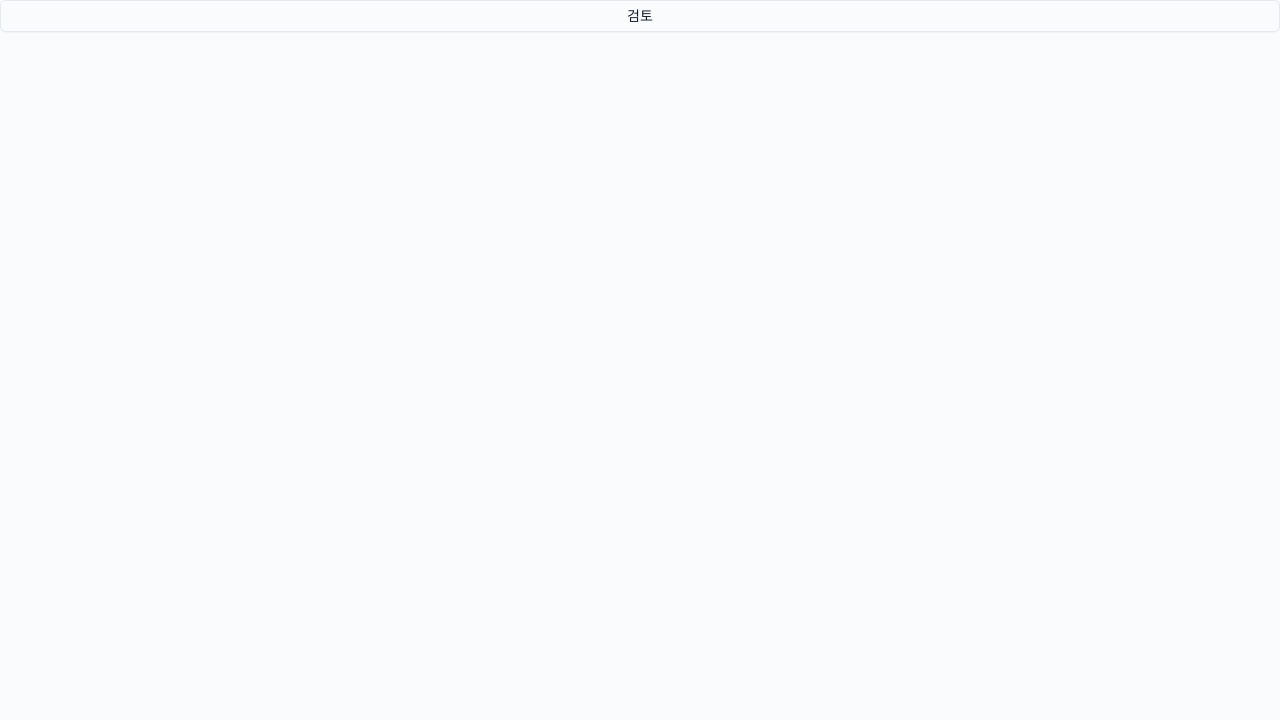
Test: 검토 단추 › 발주기관은 눌러 승인·반려 창을 연다
Click the button "검토" at (640, 16), box [0,0,1279,32]
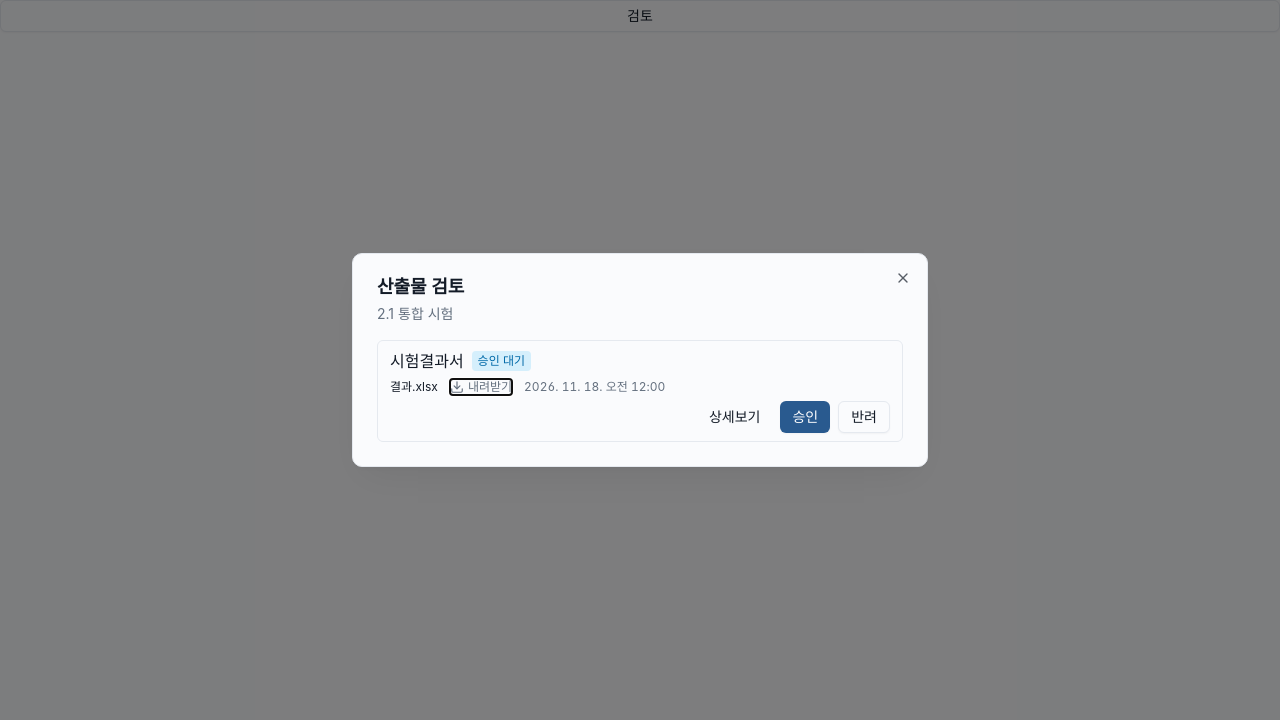
Expected: the button "승인" is shown, [780,401,830,433]
Expected: the button "반려" is shown, [838,401,890,433]
Expected: the button "상세보기" is shown, [697,401,772,433]
